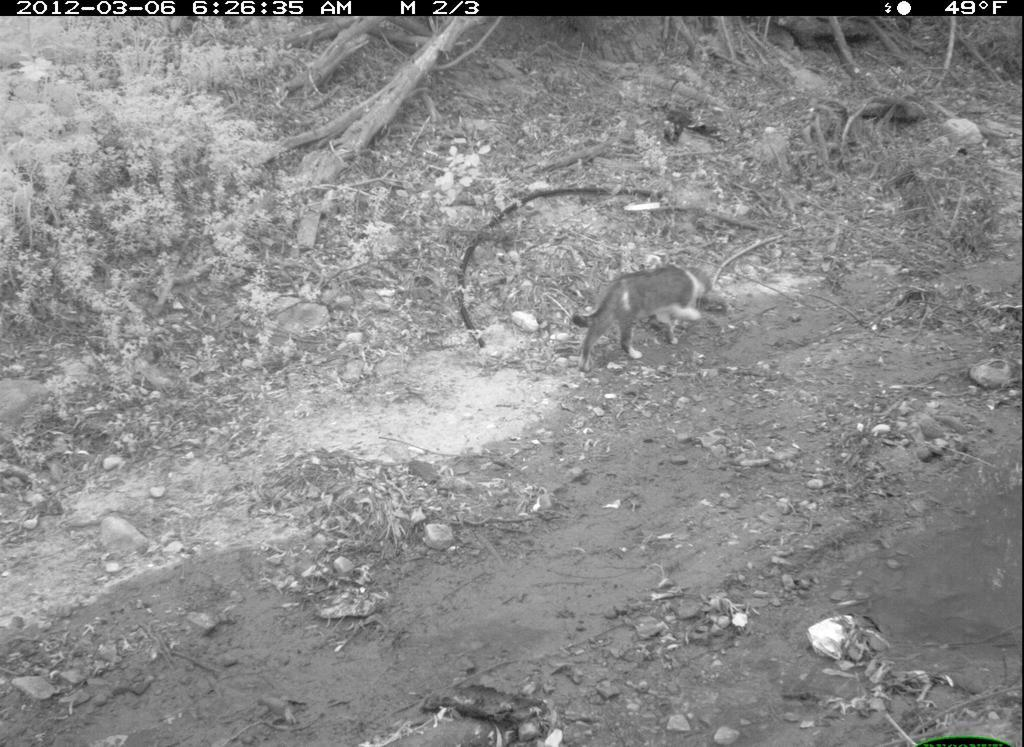cat: (559, 249, 780, 413)
